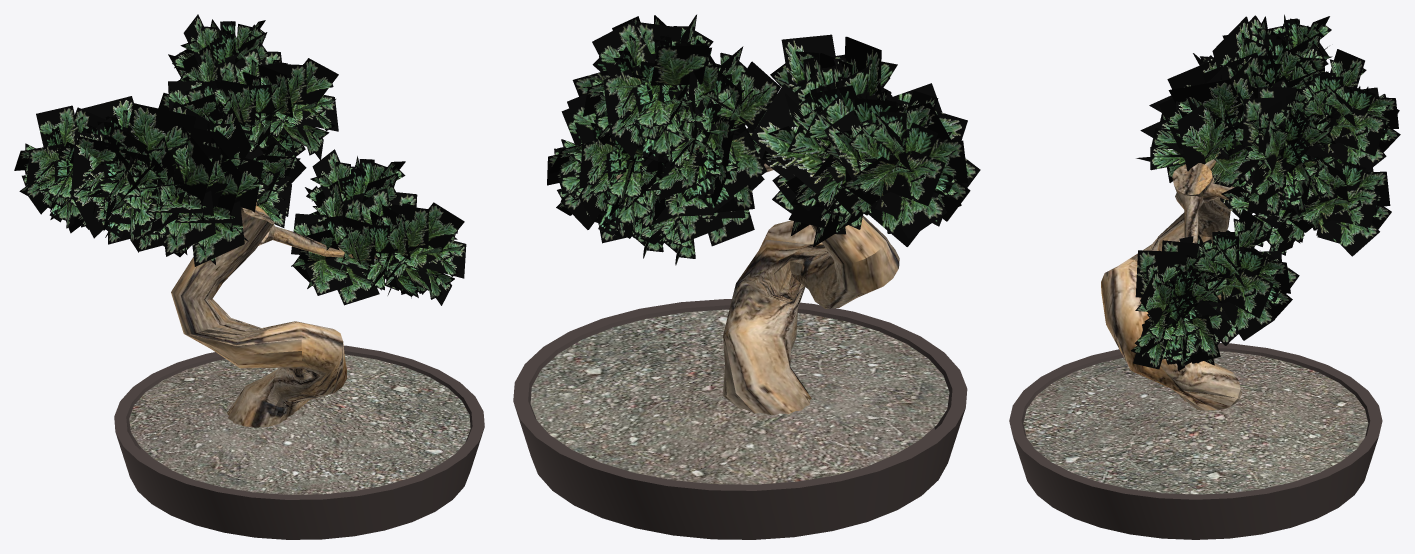
3 views of the same model, side by side, from view 1: azimuth 30°, elevation 25°; view 2: azimuth 150°, elevation 25°; view 3: azimuth 270°, elevation 25° (orthographic). The views are drawn at different scales.
Parts seen in each view (by area): view 1: Object_5, Object_4, Object_2, Object_6, Object_3; view 2: Object_5, Object_4, Object_2, Object_3, Object_6; view 3: Object_5, Object_4, Object_2, Object_6, Object_3.
Part boxes in pixels (left/top/right/bottom): Object_5: left=14, top=14, right=338, bottom=266; Object_4: left=129, top=354, right=470, bottom=494; Object_2: left=114, top=345, right=484, bottom=539; Object_6: left=291, top=149, right=466, bottom=305; Object_3: left=171, top=202, right=377, bottom=427; Object_5: left=548, top=14, right=980, bottom=246; Object_4: left=530, top=309, right=949, bottom=484; Object_2: left=513, top=299, right=967, bottom=539; Object_3: left=616, top=145, right=899, bottom=415; Object_6: left=547, top=108, right=695, bottom=265; Object_5: left=1136, top=14, right=1400, bottom=256; Object_4: left=1023, top=351, right=1368, bottom=494; Object_2: left=1009, top=343, right=1382, bottom=539; Object_6: left=1131, top=209, right=1299, bottom=370; Object_3: left=1101, top=159, right=1242, bottom=410.
Size of the model in its own units: 44.47 by 42.94 by 38.25.
4 materials, 3 textured.
